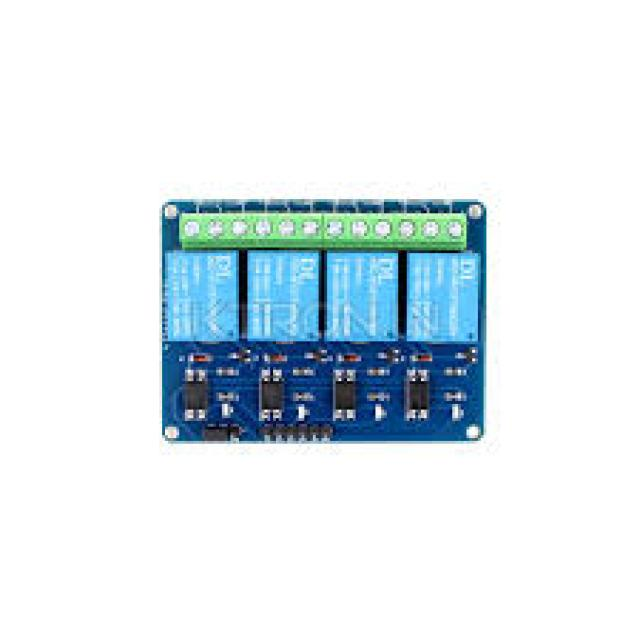Relay: (163, 250, 249, 351), (246, 250, 322, 342), (326, 251, 400, 343), (407, 252, 479, 345)
